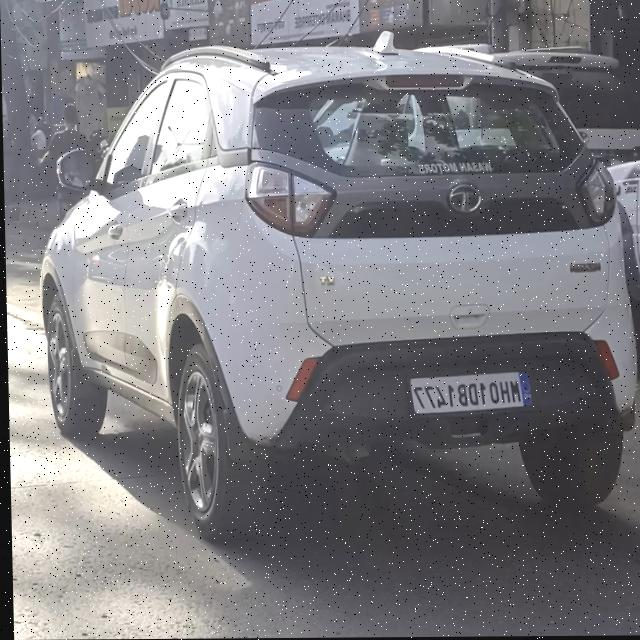plate: (408, 370, 532, 416)
